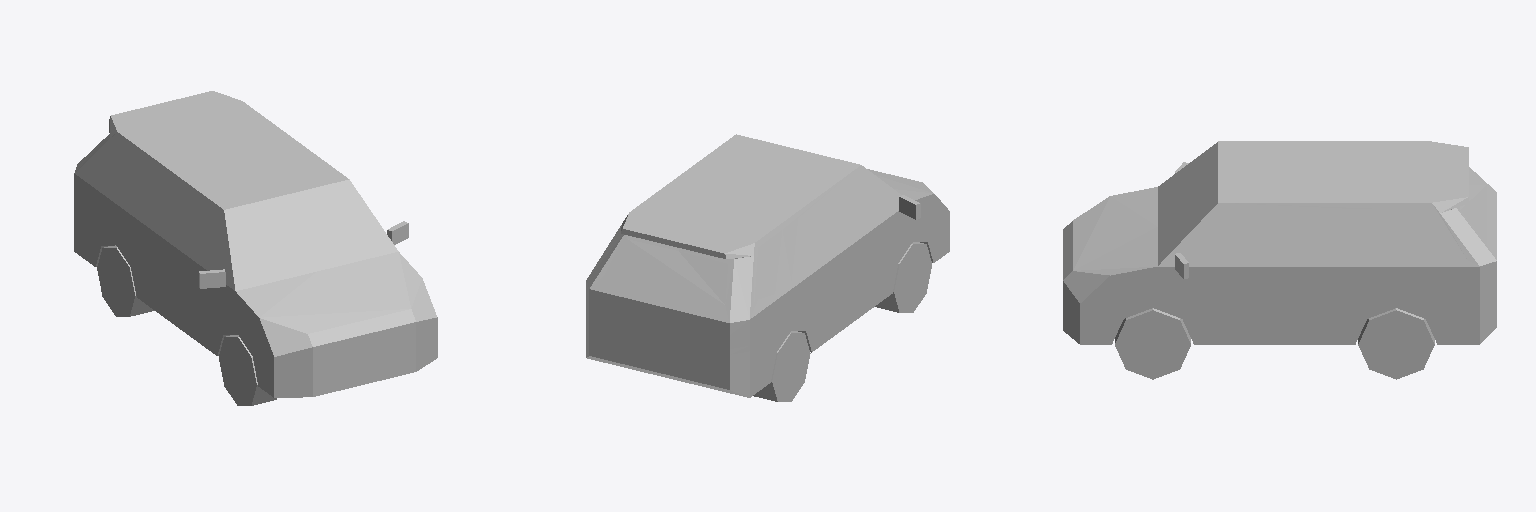
File: suv_white.obj
3 renders of one model, left to right at view 1: azimuth 30°, elevation 25°; view 2: azimuth 150°, elevation 25°; view 3: azimuth 270°, elevation 25°, orthographic.
Visible parts, largest first — view 1: SUV_01_Default, Wheel_FR, Wheel_RR; view 2: SUV_01_Default, Wheel_FR, Wheel_RR; view 3: SUV_01_Default, Wheel_FL, Wheel_RL.
Part boxes in pixels (bbox=[...]): SUV_01_Default: bbox=[74, 91, 437, 397]; Wheel_FR: bbox=[219, 335, 276, 405]; Wheel_RR: bbox=[97, 245, 154, 316]; SUV_01_Default: bbox=[586, 134, 949, 397]; Wheel_FR: bbox=[875, 242, 931, 312]; Wheel_RR: bbox=[753, 331, 810, 401]; SUV_01_Default: bbox=[1063, 141, 1496, 344]; Wheel_FL: bbox=[1115, 308, 1190, 379]; Wheel_RL: bbox=[1358, 308, 1434, 379].
Size of the model in its own units: 1.06 by 0.8172 by 1.92.